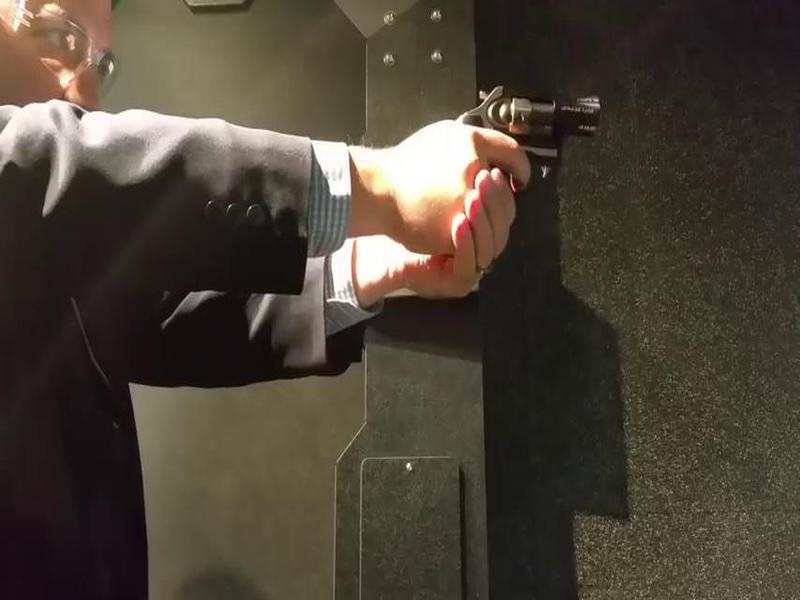Revolver: (439, 65, 615, 219)
